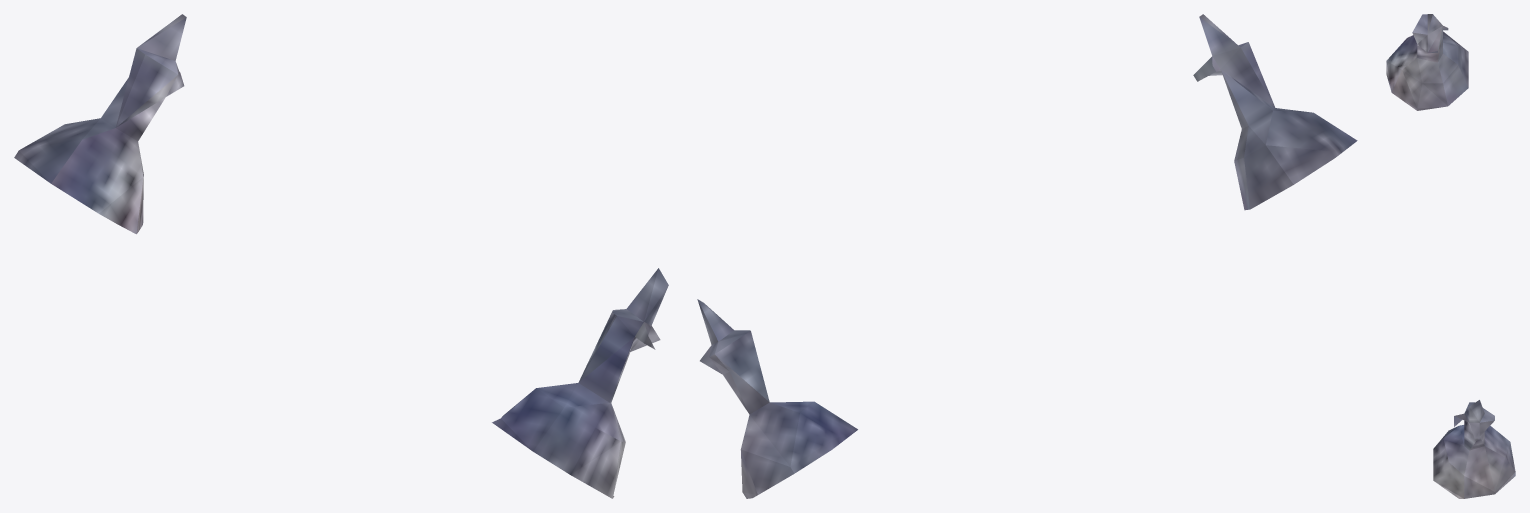
File: AJVsH2zekiRN4X5EQipizzCNahpUc-fCpNpZAdvliWh-8zAohTznEKSIUJRGiXNd5wflzCpZtqSGUl8SC19UIEEY8YFLue0Af_a8t-QkXDm7p8_7ys4407lgLtms_xEYj9IUNkw9RmY9P-JwyTNhheEXI_JjW0F31QfGMh6t7tqtWnqH-AgnFcADxMBRt8n0bA.glb
The picture shows the model from 3 angles, left to right: view 1: azimuth 30°, elevation 25°; view 2: azimuth 150°, elevation 25°; view 3: azimuth 270°, elevation 25°; orthographic projection. The views are drawn at different scales.
Size of the model in its own units: 16.82 by 14.47 by 4.76.
Materials: 1 (1 with a texture image).
